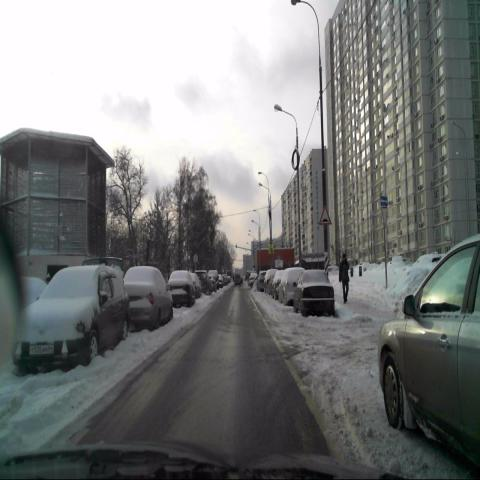1_17: (319, 208, 331, 226)
2_4: (381, 207, 388, 227)
5_7_1: (379, 195, 389, 206)
